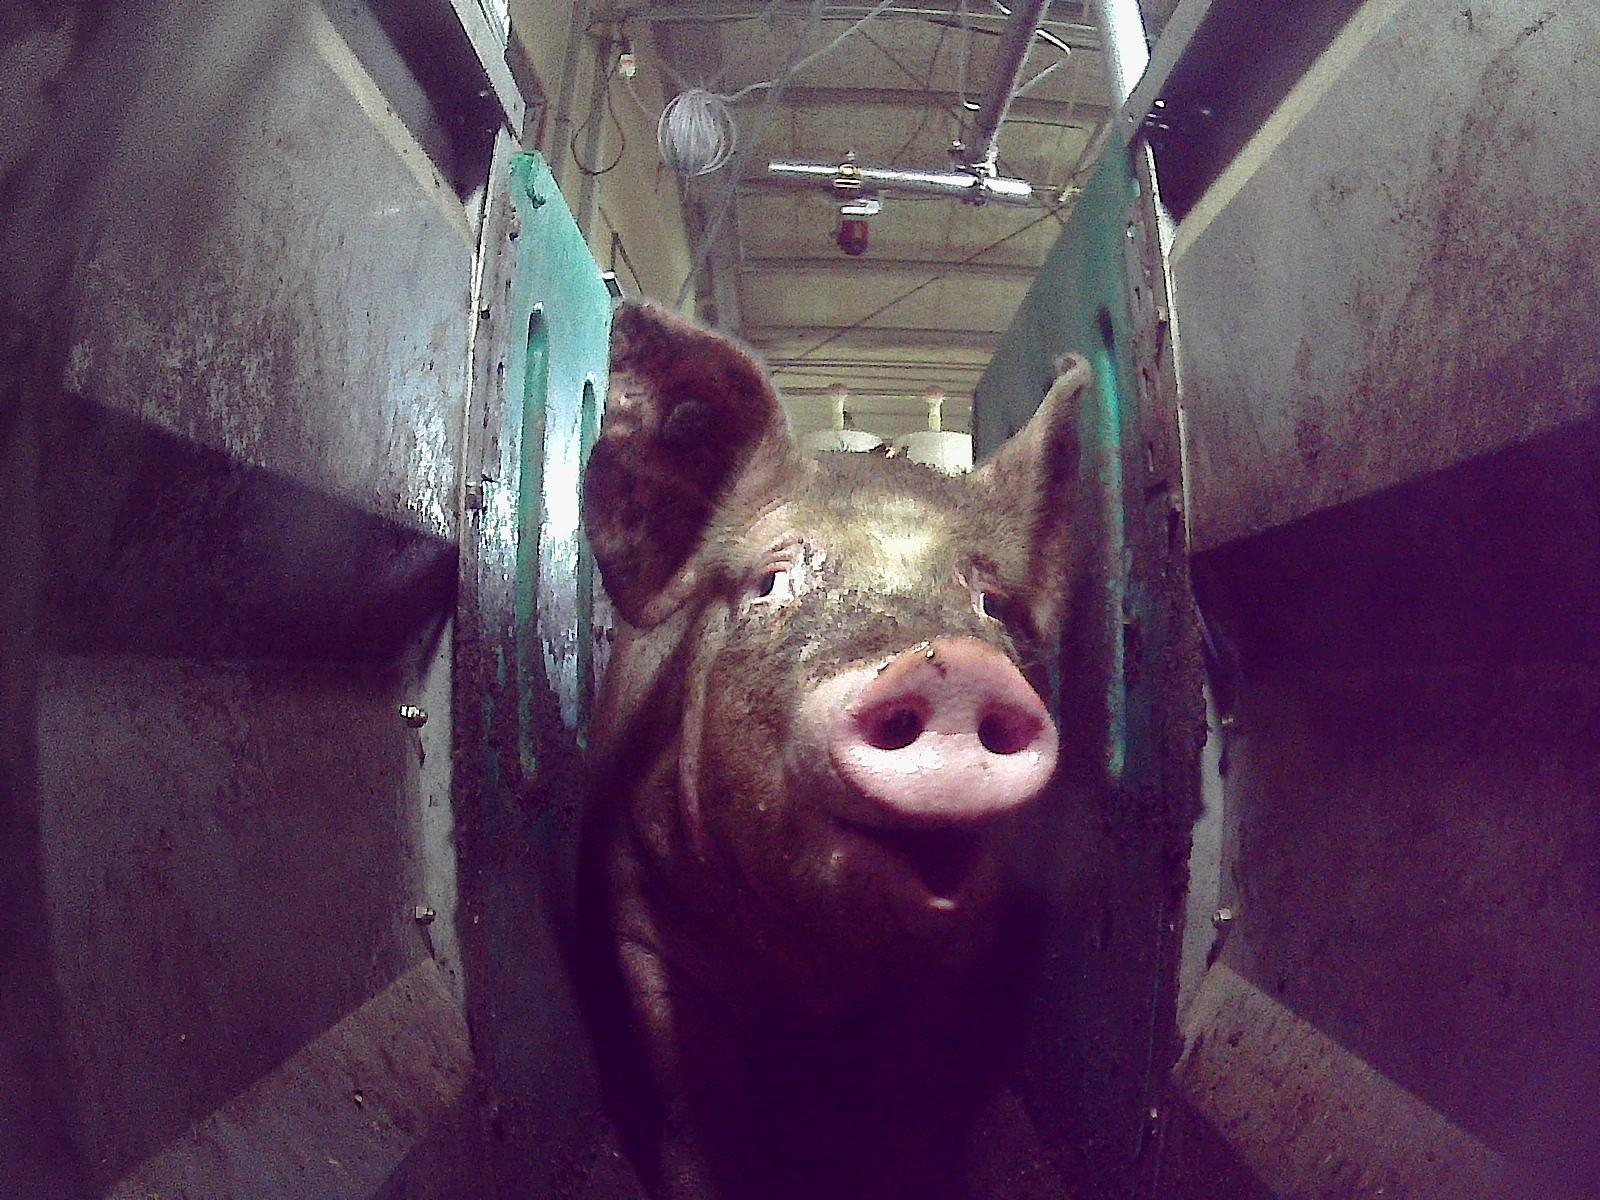Face: (680, 448, 1059, 949)
